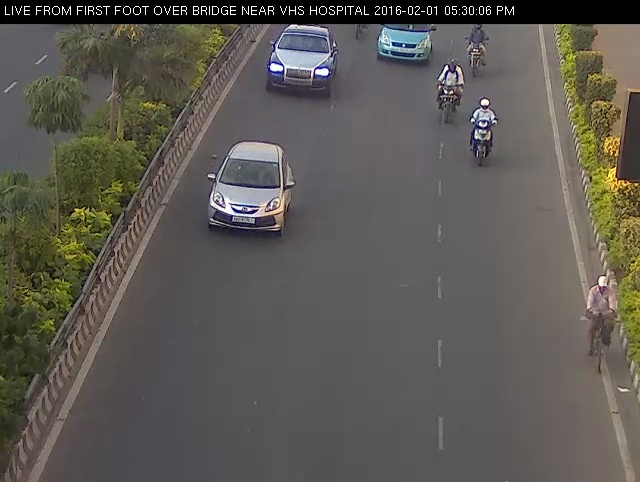Car: (195, 136, 307, 251), (253, 12, 336, 98), (375, 19, 437, 69)
Person: (464, 93, 503, 175), (432, 52, 466, 128), (460, 19, 491, 80)
